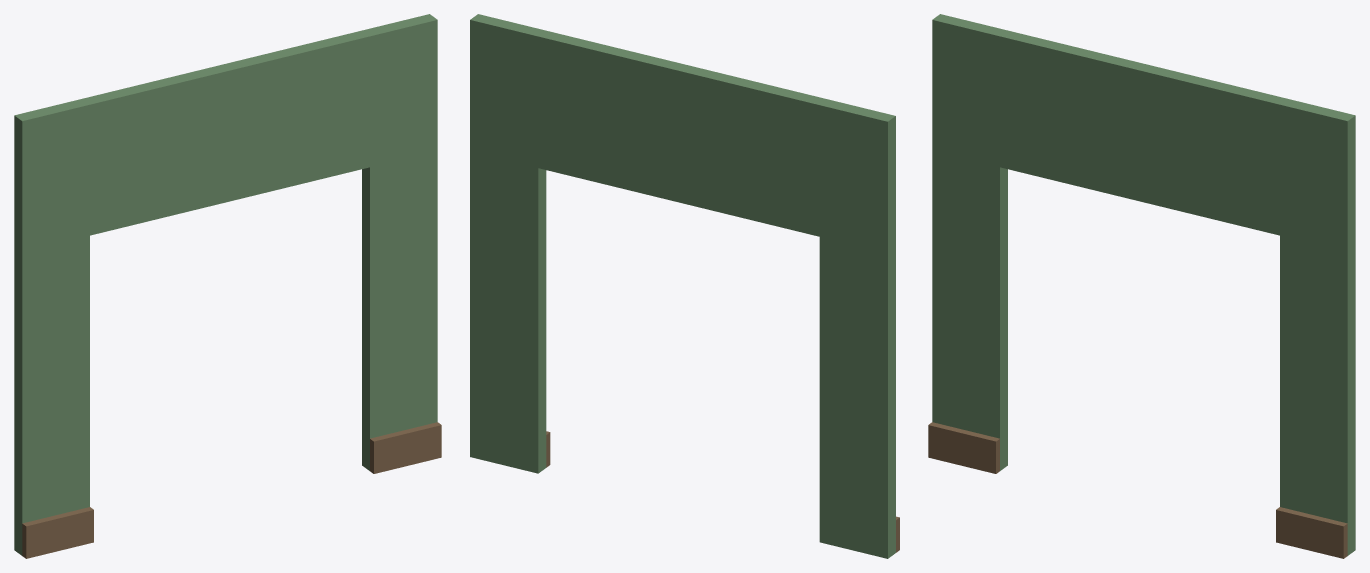
The model's file is Mesh_WallBaseboard_F4.fbx.
The picture shows the model from 3 angles, left to right: view 1: azimuth 30°, elevation 25°; view 2: azimuth 150°, elevation 25°; view 3: azimuth 330°, elevation 25°; orthographic projection.
Visible parts, largest first — view 1: Mesh_WallBaseboard_F4; view 2: Mesh_WallBaseboard_F4; view 3: Mesh_WallBaseboard_F4.
Part boxes in pixels (x1,y1,x2,y2): Mesh_WallBaseboard_F4: (14, 14, 441, 558); Mesh_WallBaseboard_F4: (470, 14, 899, 558); Mesh_WallBaseboard_F4: (928, 14, 1355, 558).
Bounding box in the file's own units: 3 × 3 × 0.15.
